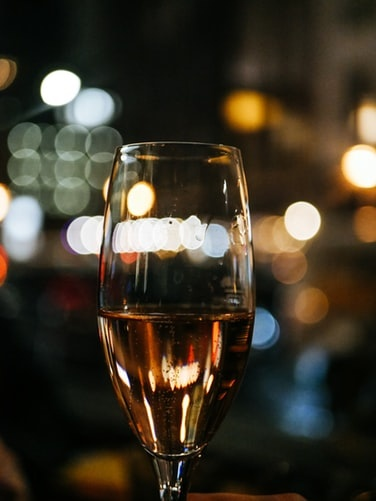whiskey: (96, 143, 256, 500)
